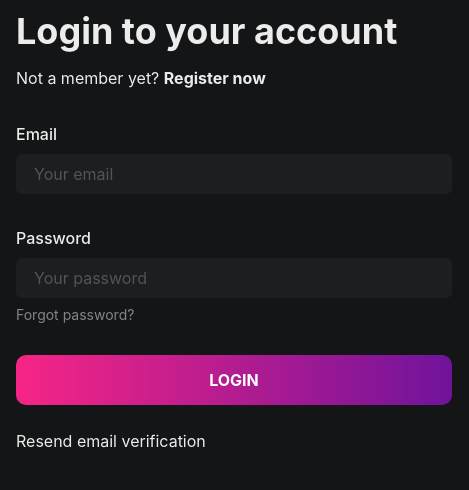
Login › fails validation when no email is provided
Type "password" into the password field named "password" at (234, 278), box [16,258,452,298]
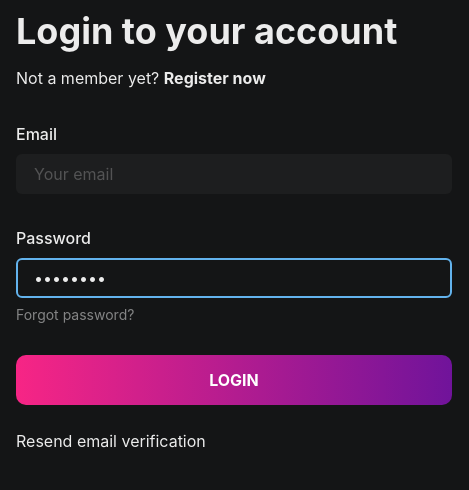
Click the button "Login" at (234, 380), box [16,355,452,405]
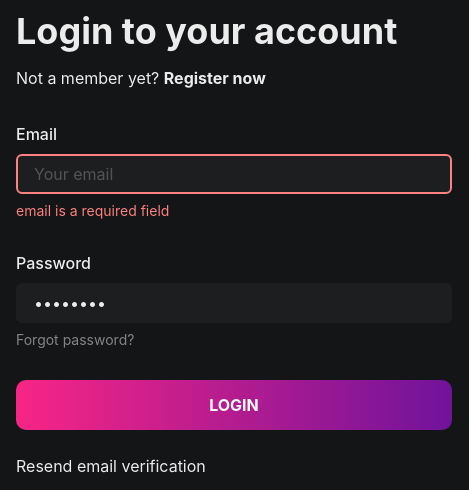
Now the text "email is a required field" is shown, box [16,202,169,219]
